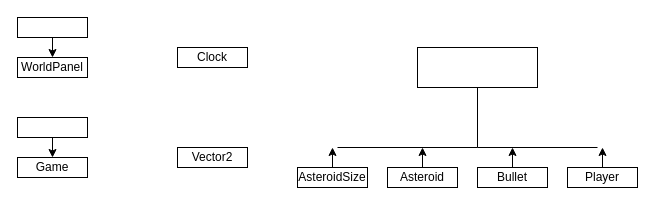
Some shapes in this 655 by 205 pixel diagram are drawn without their labels. Here are the shapes that lost their labels. From the top down, the centre of each, then its label:
the point at 52,27: JPanel
the point at 477,67: Entity
the point at 52,127: JFrame
